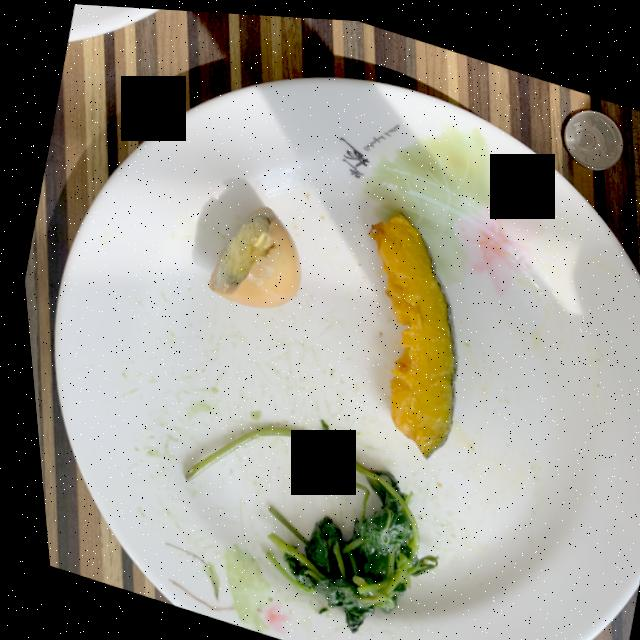coin: (560, 101, 621, 161)
pumpkin: (365, 207, 451, 452)
soy egg: (203, 202, 296, 304)
sweet potato leaves: (175, 416, 428, 628)
